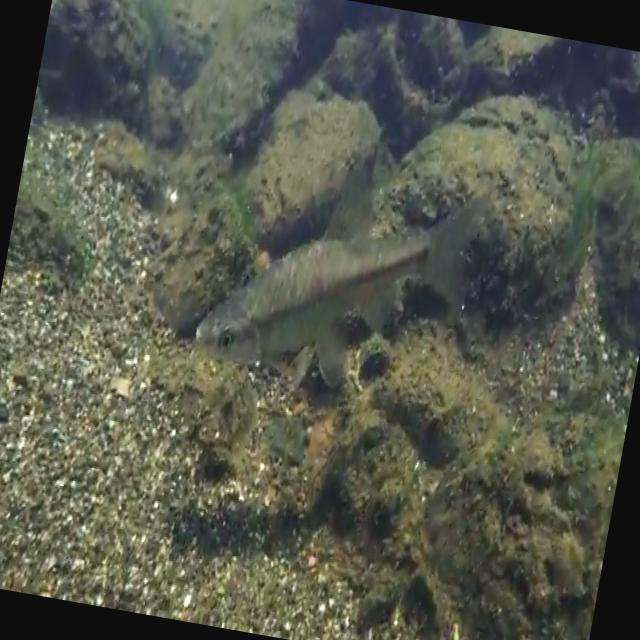Cakil Baligi: (188, 127, 502, 412)
